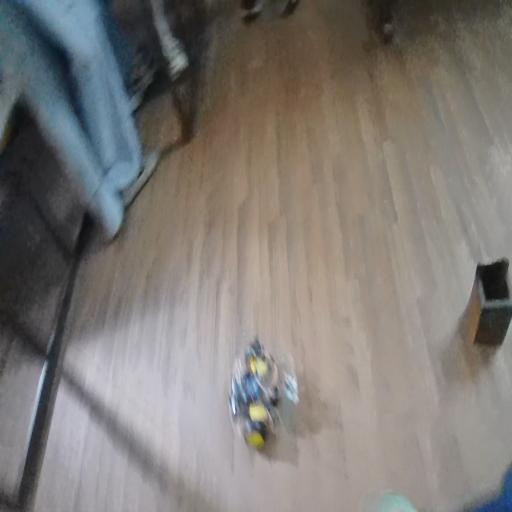car: (227, 346, 300, 452)
